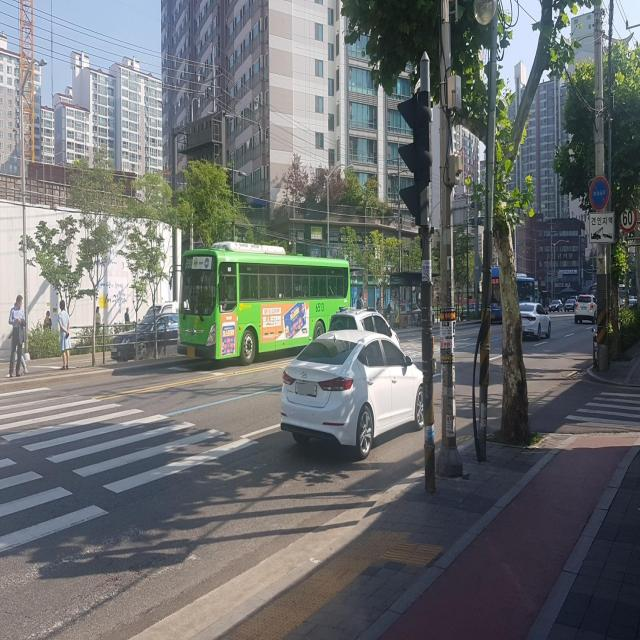횡단보도: (0, 381, 255, 554)
